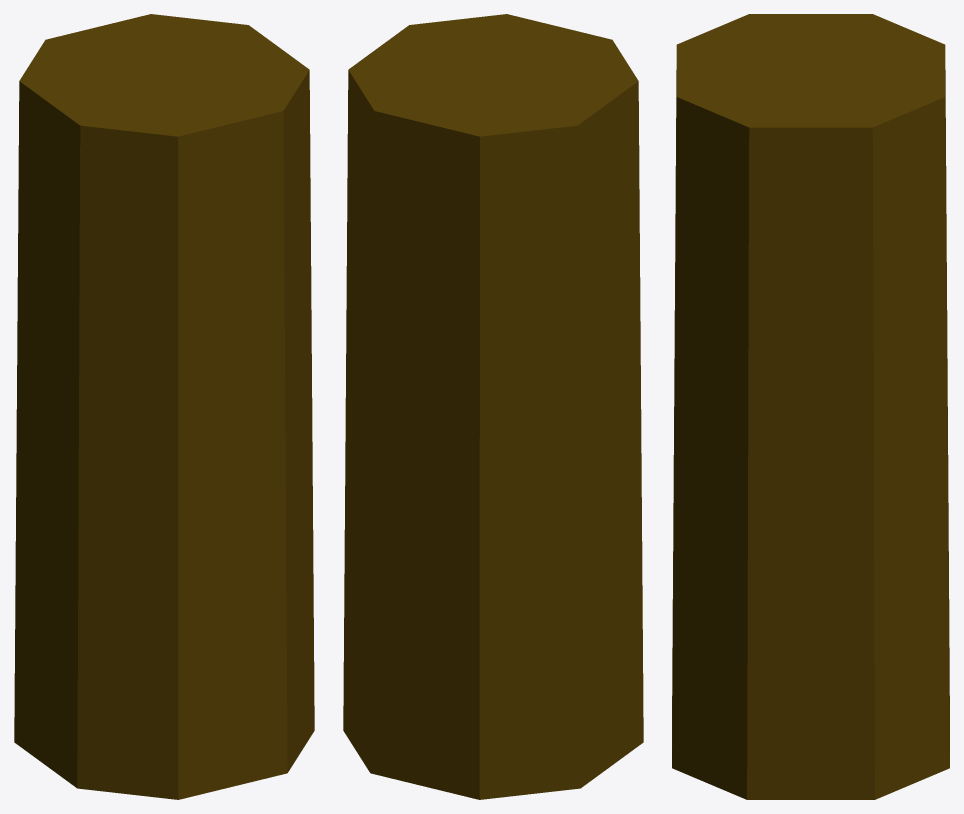
Rendered from envCliffFiller.fbx.
3 views of the same model, side by side, from view 1: azimuth 30°, elevation 25°; view 2: azimuth 150°, elevation 25°; view 3: azimuth 270°, elevation 25° (orthographic).
Parts seen in each view (by area): view 1: envCliff_20xFiller; view 2: envCliff_20xFiller; view 3: envCliff_20xFiller.
Part boxes in pixels (box(x1,y1,x2,y2)): envCliff_20xFiller: box(14, 14, 314, 799); envCliff_20xFiller: box(343, 14, 643, 799); envCliff_20xFiller: box(672, 14, 949, 799).
Bounding box in the file's own units: 20.69 × 55.08 × 20.69.
